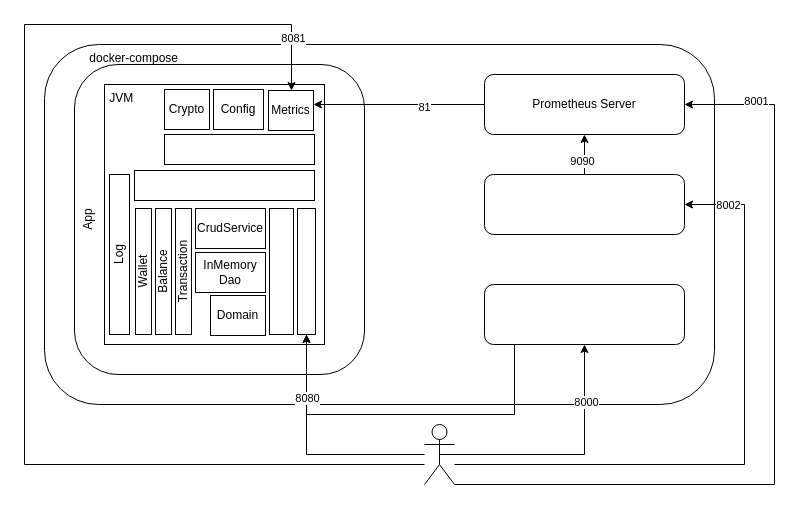
Image size: 800x523. Some labels were removed from this diagram. The centre of each missing label's shape, as x and y in pixels:
"Application Main" belongs at point (224, 185).
"Grafana" belongs at point (584, 204).
"PlatformContext" belongs at point (239, 149).
"rest api" belongs at point (306, 271).
"swagger-ui" belongs at point (584, 314).
"undertow embeded server" belongs at point (281, 271).
"User" belongs at point (439, 454).
